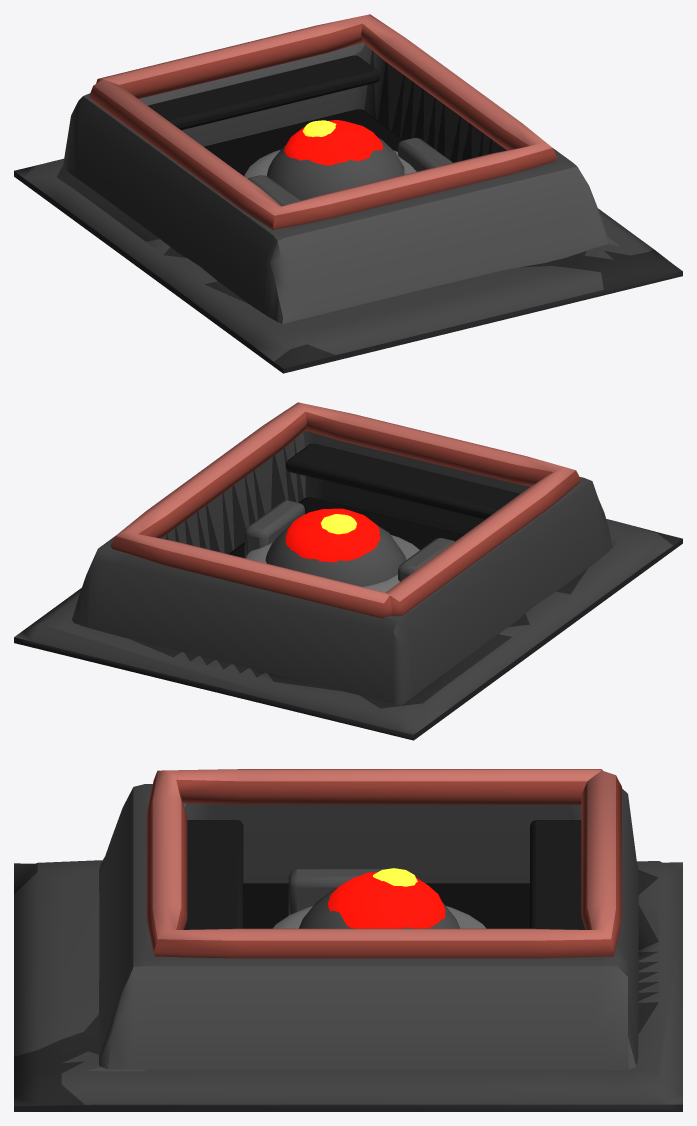
The model's file is hatch_bunker.glb.
3 renders of one model, top to bottom at view 1: azimuth 30°, elevation 25°; view 2: azimuth 150°, elevation 25°; view 3: azimuth 270°, elevation 25°, orthographic. The views are drawn at different scales.
Visible parts, largest first — view 1: housing, ground, frame, door_n, dome, pit_floor, eye, strut1, strut-1, collar; view 2: housing, frame, ground, door_s, dome, eye, pit_floor, strut1, strut-1, collar, eye_core; view 3: housing, ground, frame, door_s, door_n, pit_floor, eye, strut-1, dome, collar, eye_core.
Part boxes in pixels (bbox=[...]): housing: bbox=[62, 42, 608, 323]; ground: bbox=[14, 158, 682, 373]; frame: bbox=[89, 14, 557, 230]; door_n: bbox=[148, 55, 379, 130]; dome: bbox=[267, 138, 404, 200]; pit_floor: bbox=[204, 109, 403, 176]; eye: bbox=[284, 120, 382, 165]; strut1: bbox=[398, 137, 452, 171]; strut-1: bbox=[248, 175, 300, 206]; collar: bbox=[244, 149, 416, 178]; housing: bbox=[72, 430, 615, 705]; frame: bbox=[110, 402, 580, 618]; ground: bbox=[14, 519, 682, 740]; door_s: bbox=[286, 443, 519, 519]; dome: bbox=[265, 524, 406, 586]; eye: bbox=[285, 508, 380, 562]; pit_floor: bbox=[228, 497, 464, 557]; strut1: bbox=[244, 500, 304, 558]; strut-1: bbox=[398, 538, 454, 581]; collar: bbox=[246, 535, 419, 592]; eye_core: bbox=[320, 514, 356, 534]; housing: bbox=[98, 784, 638, 1070]; ground: bbox=[14, 860, 682, 1111]; frame: bbox=[146, 769, 621, 958]; door_s: bbox=[184, 820, 243, 929]; door_n: bbox=[530, 820, 585, 929]; pit_floor: bbox=[243, 883, 529, 928]; eye: bbox=[327, 872, 445, 928]; strut-1: bbox=[288, 869, 385, 915]; dome: bbox=[299, 887, 459, 928]; collar: bbox=[273, 906, 486, 928]; eye_core: bbox=[373, 868, 417, 886].
Size of the model in its own units: 24 by 8.16 by 28.
